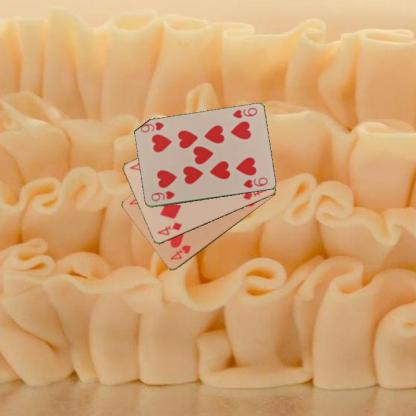4d: (155, 220, 183, 237)
4h: (167, 243, 192, 261)
9h: (230, 105, 258, 120), (149, 188, 176, 203)
